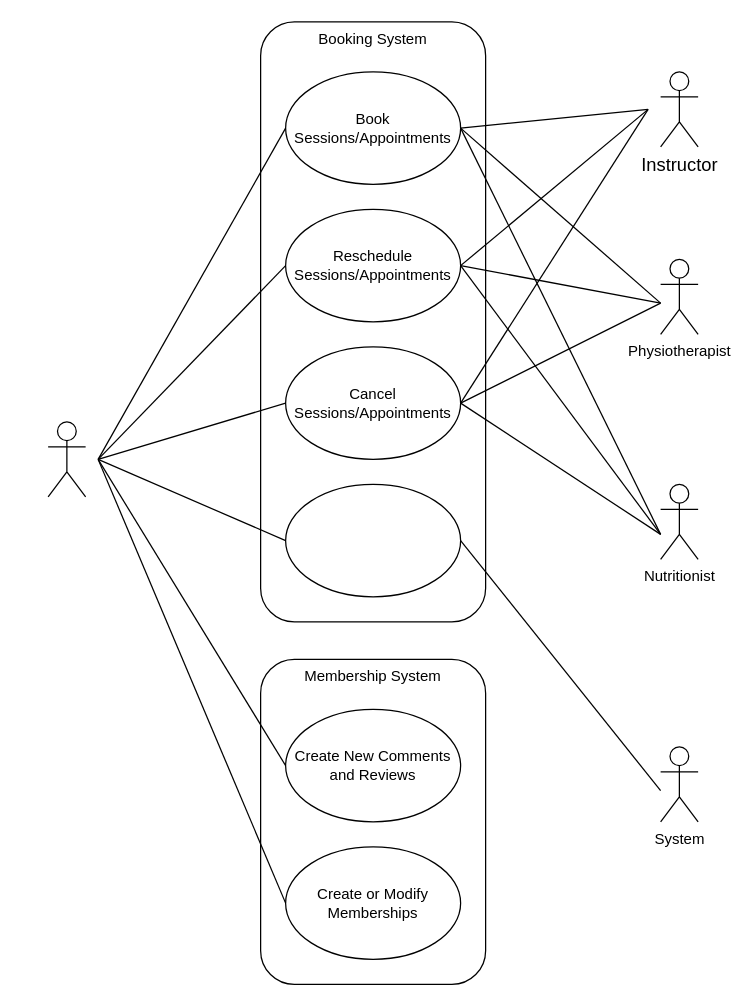
This 753x1006 diagram has some shape labels left out. Here are the shapes that lost their labels. From the top down, the centre of each, then its label:
At pixel 66 459: "Gym Member".
At pixel 372 540: "Send and Receive Notifications".
